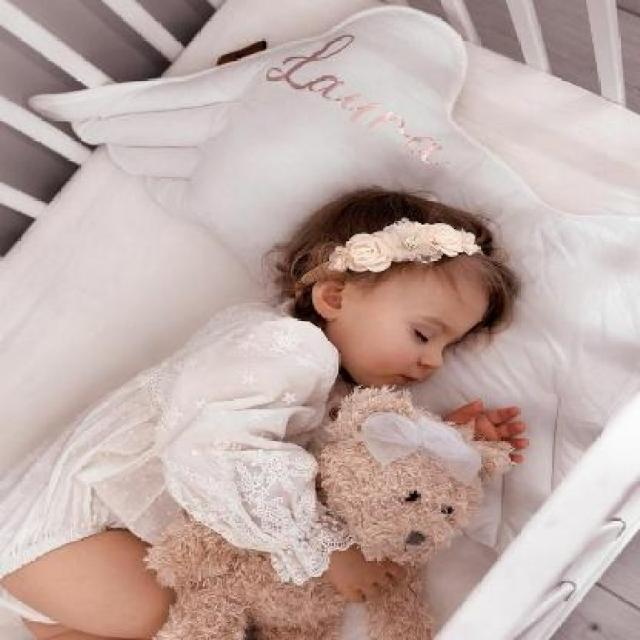child: (0, 187, 515, 638)
